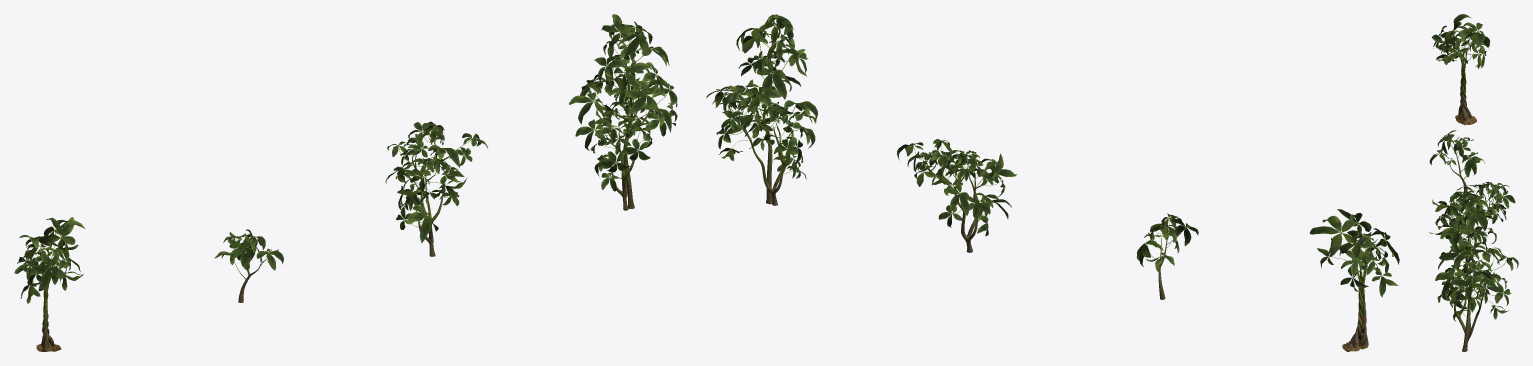
File: pachira_aquatica_01.glb
3 renders of one model, left to right at view 1: azimuth 30°, elevation 25°; view 2: azimuth 150°, elevation 25°; view 3: azimuth 270°, elevation 25°, orthographic. The views are drawn at different scales.
Parts seen in each view (by area): view 1: pachira_aquatica_01_leaves_d, pachira_aquatica_01_leaves_c, pachira_aquatica_01_leaves_a, pachira_aquatica_01_leaves_b, pachira_aquatica_01_bark_d, pachira_aquatica_01_bark_c, pachira_aquatica_01_bark_a; view 2: pachira_aquatica_01_leaves_d, pachira_aquatica_01_leaves_c, pachira_aquatica_01_leaves_a, pachira_aquatica_01_leaves_b, pachira_aquatica_01_bark_d, pachira_aquatica_01_bark_a, pachira_aquatica_01_bark_c; view 3: pachira_aquatica_01_leaves_d, pachira_aquatica_01_leaves_c, pachira_aquatica_01_leaves_a, pachira_aquatica_01_leaves_b, pachira_aquatica_01_bark_d, pachira_aquatica_01_bark_a, pachira_aquatica_01_bark_c, pachira_aquatica_01_bark_b.
Boxes of the visible parts, x1=… form: pachira_aquatica_01_leaves_d: x1=569, y1=14, x2=677, y2=191; pachira_aquatica_01_leaves_c: x1=385, y1=121, x2=487, y2=243; pachira_aquatica_01_leaves_a: x1=14, y1=217, x2=85, y2=303; pachira_aquatica_01_leaves_b: x1=214, y1=229, x2=283, y2=279; pachira_aquatica_01_bark_d: x1=595, y1=44, x2=652, y2=210; pachira_aquatica_01_bark_c: x1=409, y1=137, x2=457, y2=256; pachira_aquatica_01_bark_a: x1=36, y1=265, x2=61, y2=351; pachira_aquatica_01_leaves_d: x1=706, y1=14, x2=817, y2=179; pachira_aquatica_01_leaves_c: x1=897, y1=139, x2=1016, y2=236; pachira_aquatica_01_leaves_a: x1=1309, y1=209, x2=1399, y2=297; pachira_aquatica_01_leaves_b: x1=1136, y1=213, x2=1198, y2=274; pachira_aquatica_01_bark_d: x1=728, y1=43, x2=793, y2=205; pachira_aquatica_01_bark_a: x1=1342, y1=259, x2=1368, y2=351; pachira_aquatica_01_bark_c: x1=923, y1=159, x2=989, y2=252; pachira_aquatica_01_leaves_d: x1=1429, y1=190, x2=1518, y2=321; pachira_aquatica_01_leaves_c: x1=1432, y1=181, x2=1515, y2=244; pachira_aquatica_01_leaves_a: x1=1431, y1=14, x2=1490, y2=69; pachira_aquatica_01_leaves_b: x1=1429, y1=130, x2=1484, y2=179; pachira_aquatica_01_bark_d: x1=1454, y1=219, x2=1492, y2=351; pachira_aquatica_01_bark_a: x1=1455, y1=50, x2=1476, y2=125; pachira_aquatica_01_bark_c: x1=1453, y1=190, x2=1497, y2=268; pachira_aquatica_01_bark_b: x1=1447, y1=149, x2=1467, y2=195.
Bounding box in the file's own units: 6.87 × 1.9 × 0.997.
Materials: 2 (2 with a texture image).
